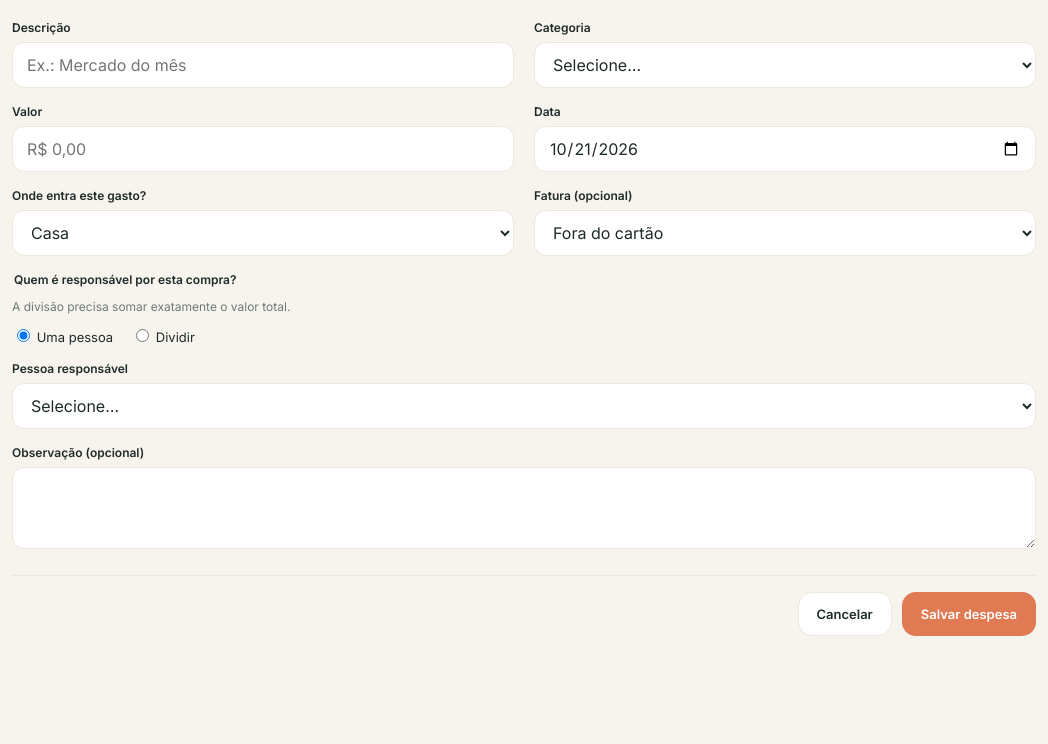
impede envio de despesa quando o rateio não fecha
In the field labelled "Descrição": (263, 65) 12,42 -> 514,88, type "Mercado"
Select "Mercado" in the dropdown labelled "Categoria": (785, 65) 534,42 -> 1036,88
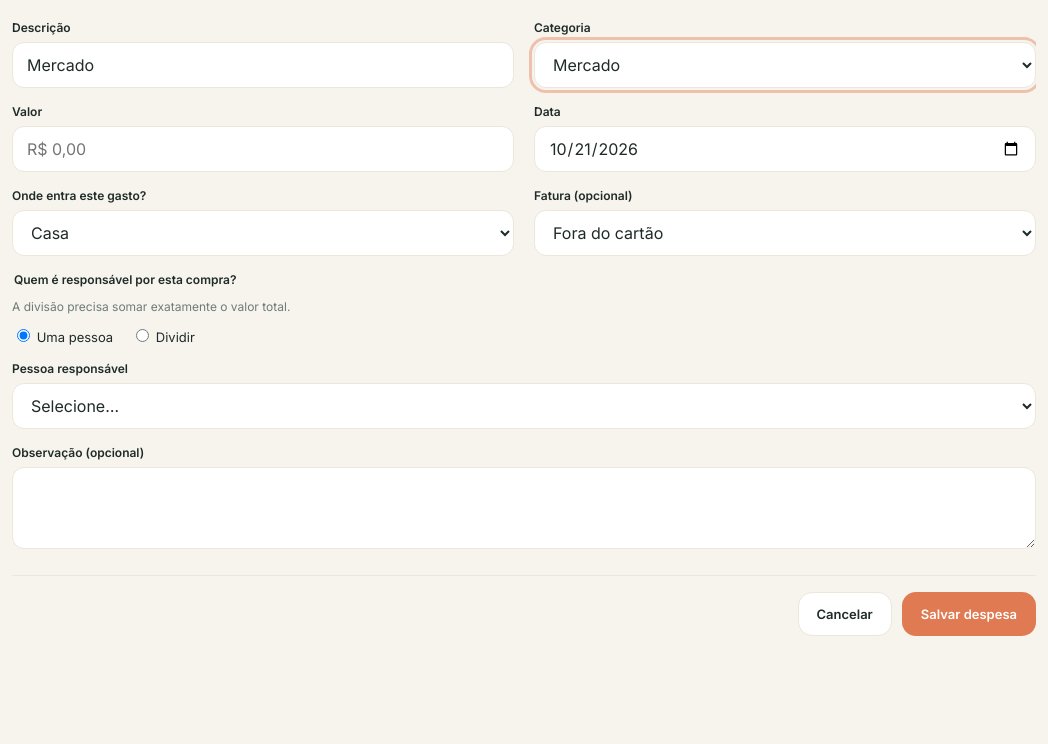
In the field labelled "Valor": (263, 149) 12,126 -> 514,172, type "100,00"
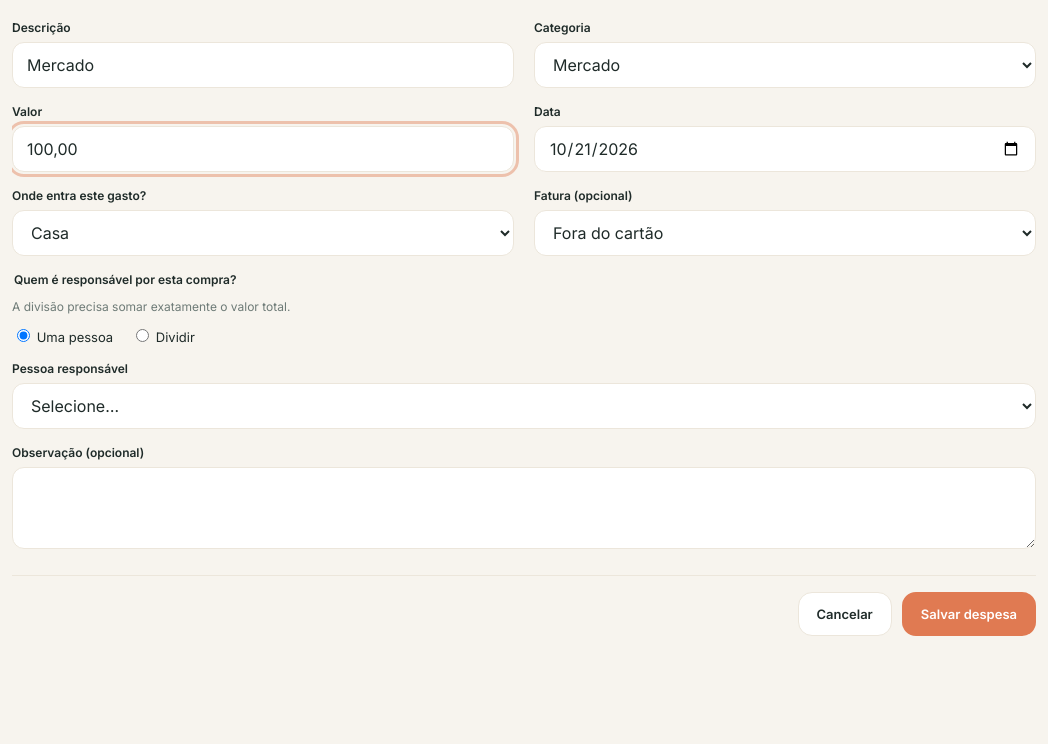
Click the radio button labelled "Dividir": (143, 336) 136,329 -> 149,342
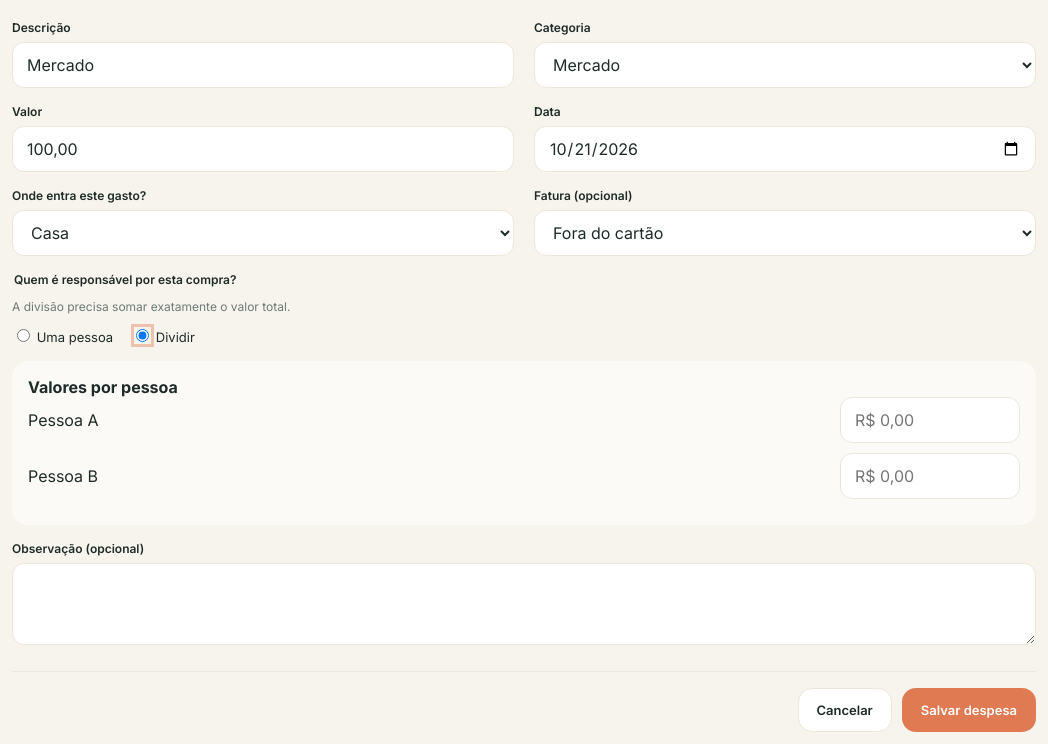
In the field labelled "Pessoa A": (930, 420) 840,397 -> 1020,443, type "40,00"
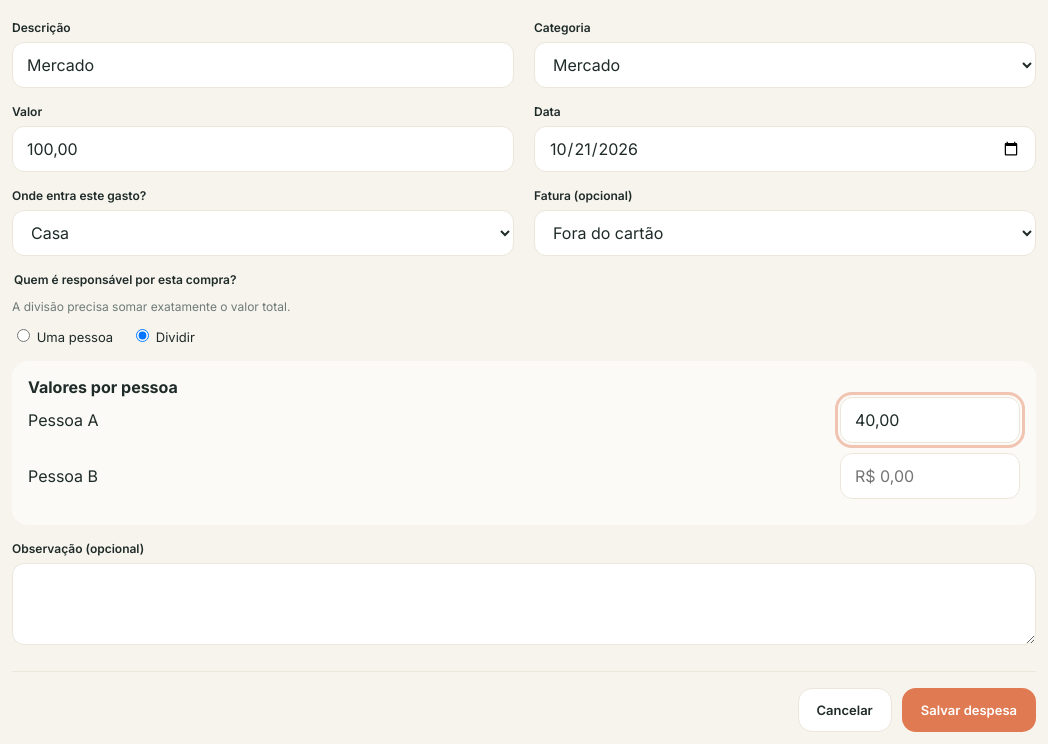
In the field labelled "Pessoa B": (930, 476) 840,453 -> 1020,499, type "50,00"
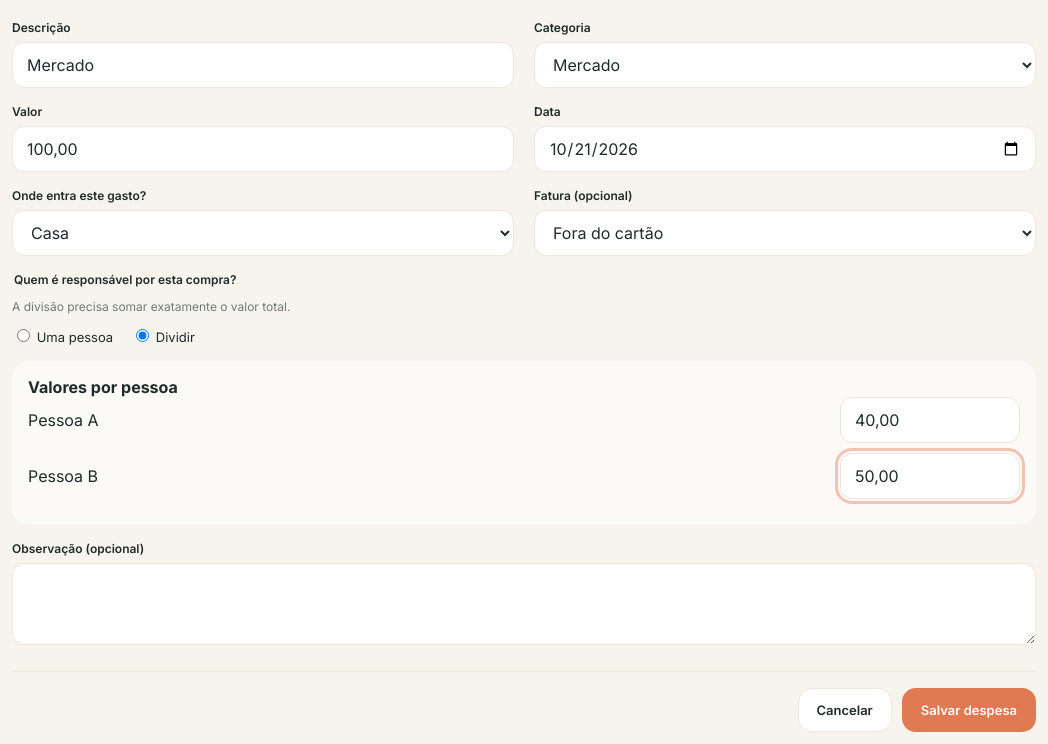
Click the button "Salvar despesa": (969, 710) 902,688 -> 1036,732
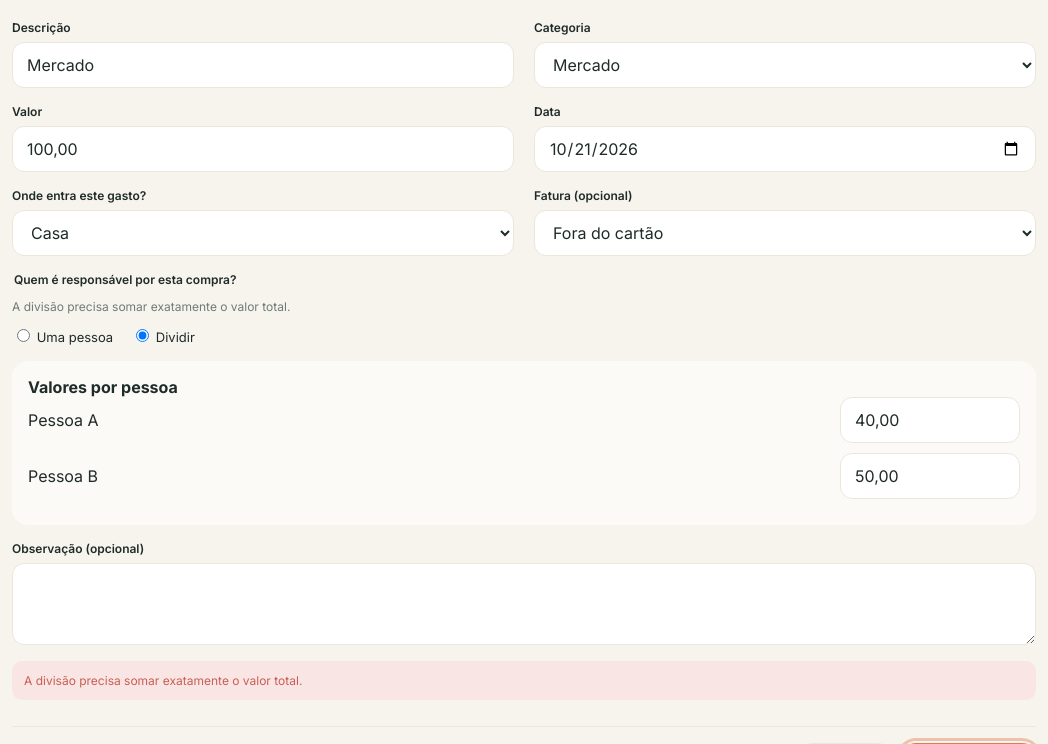
Check: the message shows "somar exatamente", box 24,673 -> 302,688
